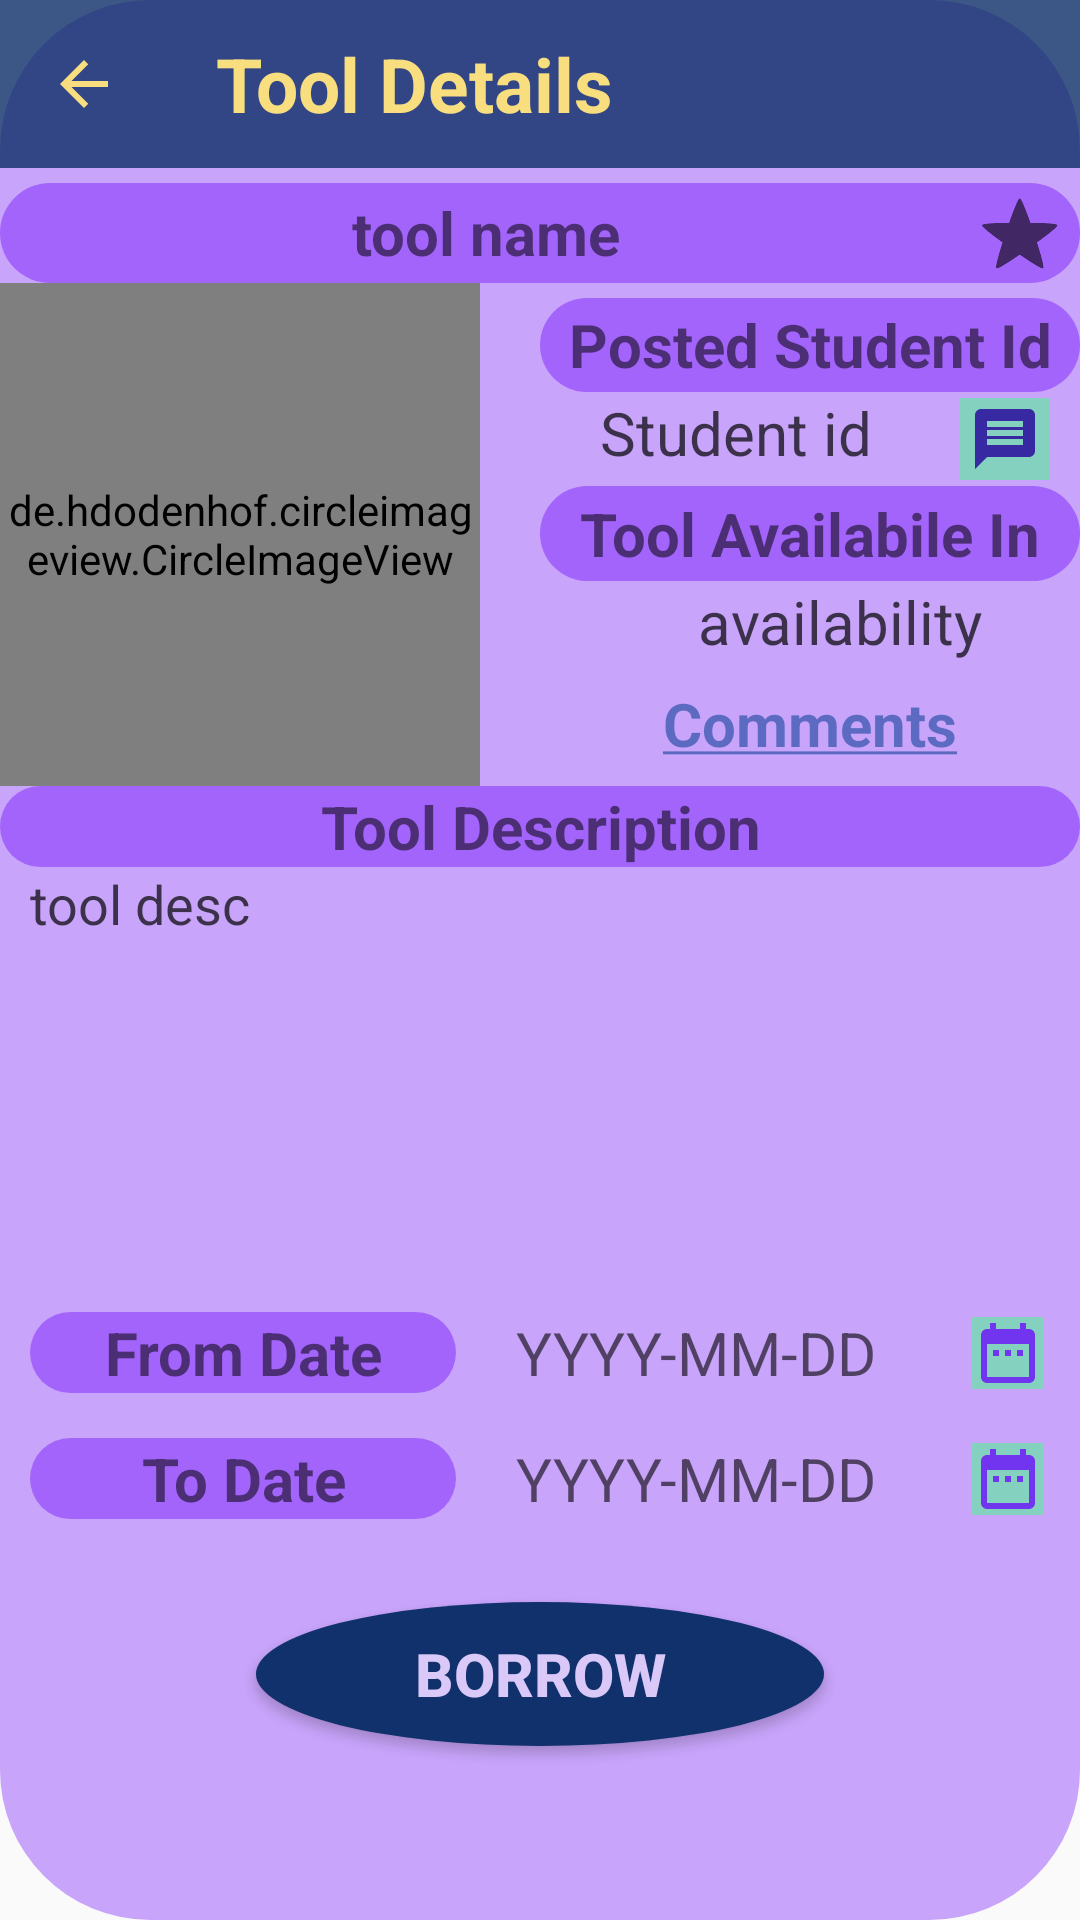

Where to tap for icons on this 1080*1920 app screen, as (x=x, y=y):
date range: (x=1008, y=1353), (x=1008, y=1479)
message: (x=1005, y=439)
